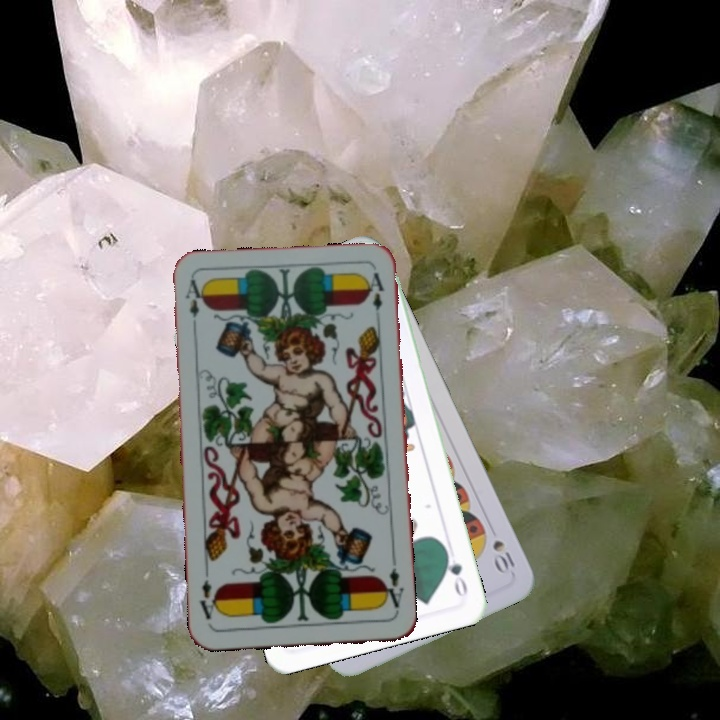EA: (379, 556, 406, 616), (181, 275, 207, 335)
GO: (440, 544, 470, 600)
S10: (488, 536, 518, 577)
